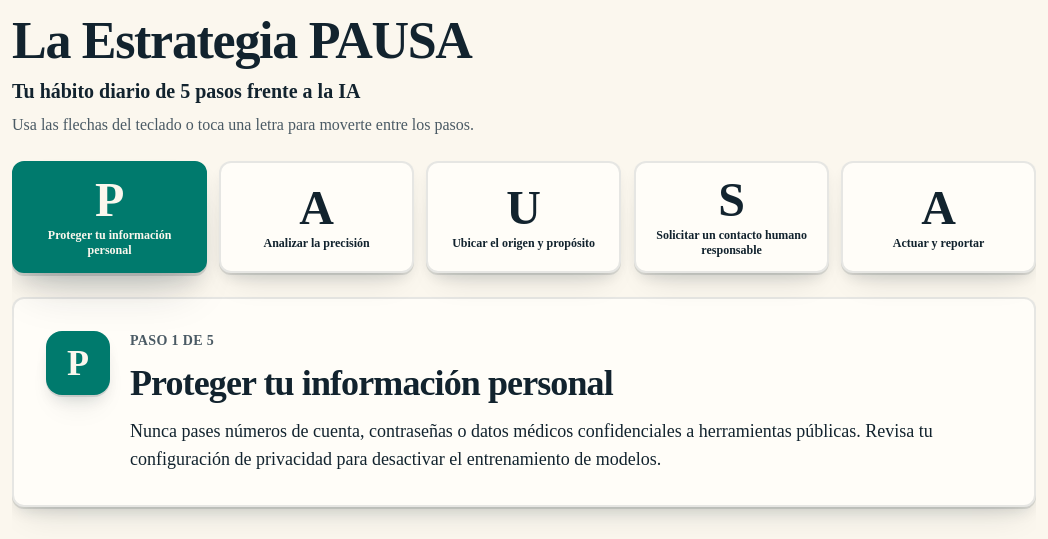
Test: PAUSE Strategy in es › shows every step's title and full text when chosen
Click the tab "P Proteger tu información personal" at (110, 217), box top-left (12, 161), bottom-right (207, 273)
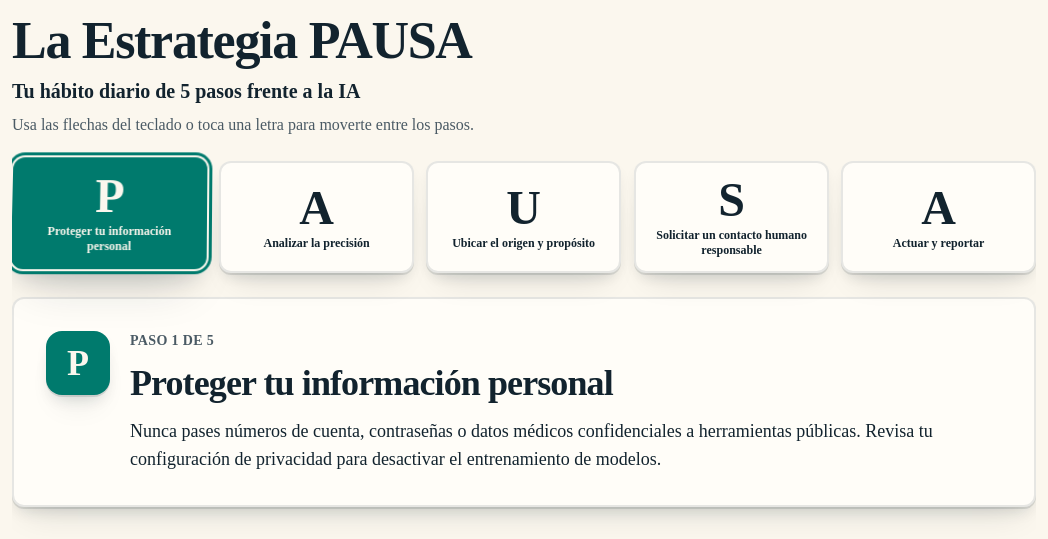
Expected: the heading "Proteger tu información personal" is shown, top-left (130, 363), bottom-right (613, 403)
Expected: the text "Nunca pases números de cuenta, contraseñas o datos médicos confidenciales a herramientas públicas. Revisa tu configuraci" is shown, top-left (130, 421), bottom-right (933, 469)
Click the tab "A Analizar la precisión" at (317, 217), box top-left (219, 161), bottom-right (414, 273)
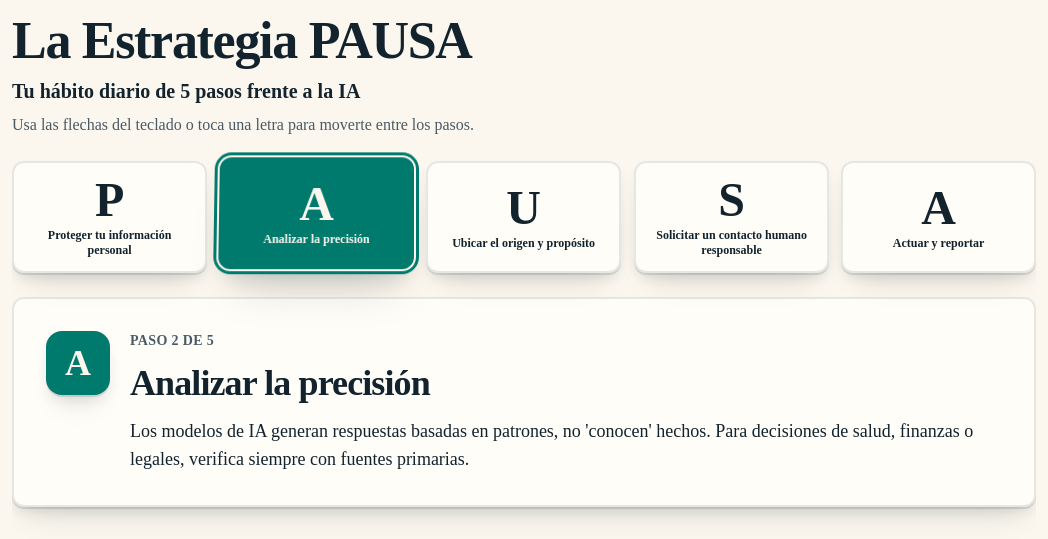
Expected: the heading "Analizar la precisión" is shown, top-left (130, 363), bottom-right (430, 403)
Expected: the text "Los modelos de IA generan respuestas basadas en patrones, no 'conocen' hechos. Para decisiones de salud, finanzas o lega" is shown, top-left (130, 421), bottom-right (973, 469)
Click the tab "U Ubicar el origen y propósito" at (524, 217), box top-left (426, 161), bottom-right (622, 273)
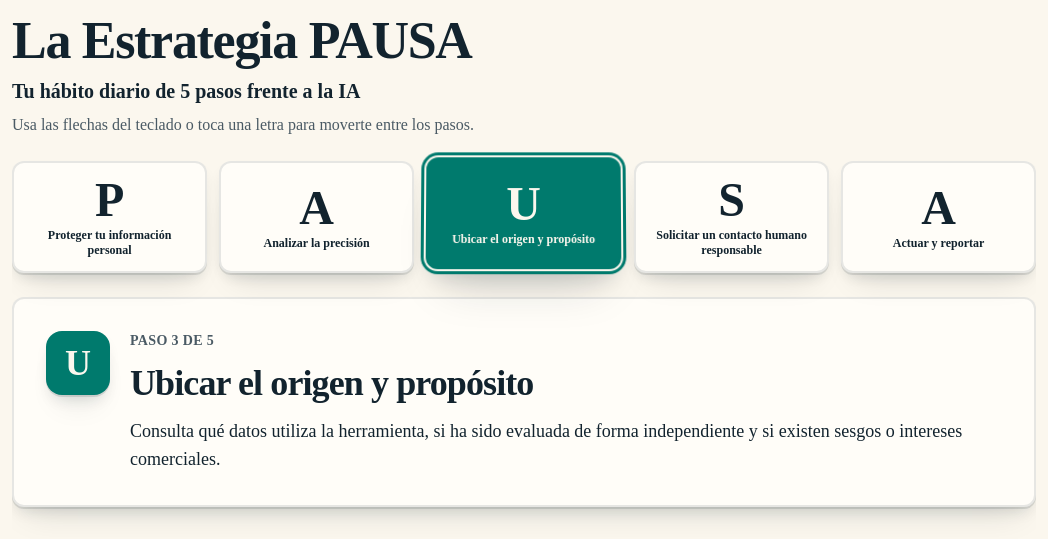
Expected: the heading "Ubicar el origen y propósito" is shown, top-left (130, 363), bottom-right (534, 403)
Expected: the text "Consulta qué datos utiliza la herramienta, si ha sido evaluada de forma independiente y si existen sesgos o intereses co" is shown, top-left (130, 421), bottom-right (962, 469)
Click the tab "S Solicitar un contacto humano responsable" at (731, 217), box top-left (634, 161), bottom-right (829, 273)
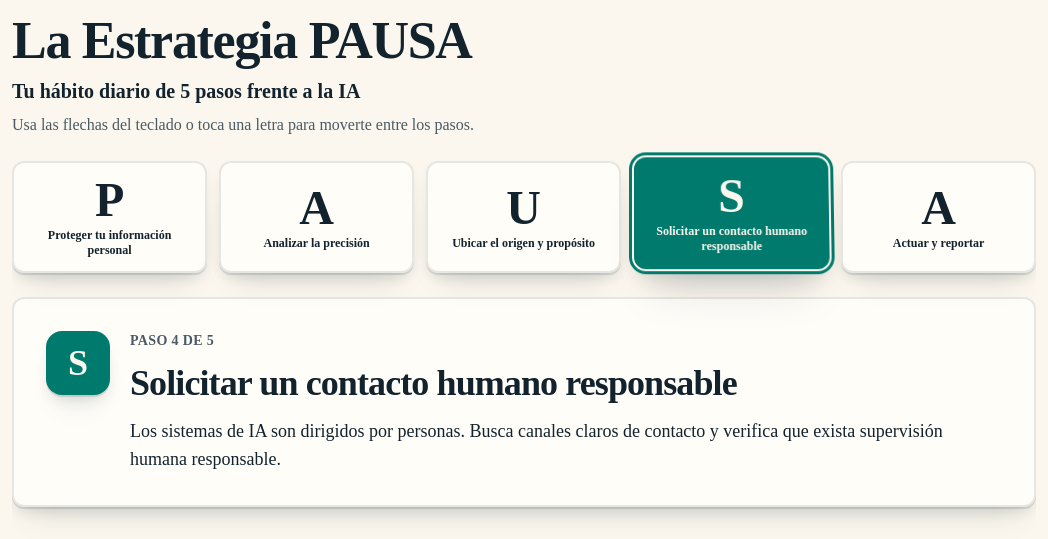
Expected: the heading "Solicitar un contacto humano responsable" is shown, top-left (130, 363), bottom-right (737, 403)
Expected: the text "Los sistemas de IA son dirigidos por personas. Busca canales claros de contacto y verifica que exista supervisión humana" is shown, top-left (130, 421), bottom-right (943, 469)
Click the tab "A Actuar y reportar" at (938, 217), box top-left (841, 161), bottom-right (1036, 273)
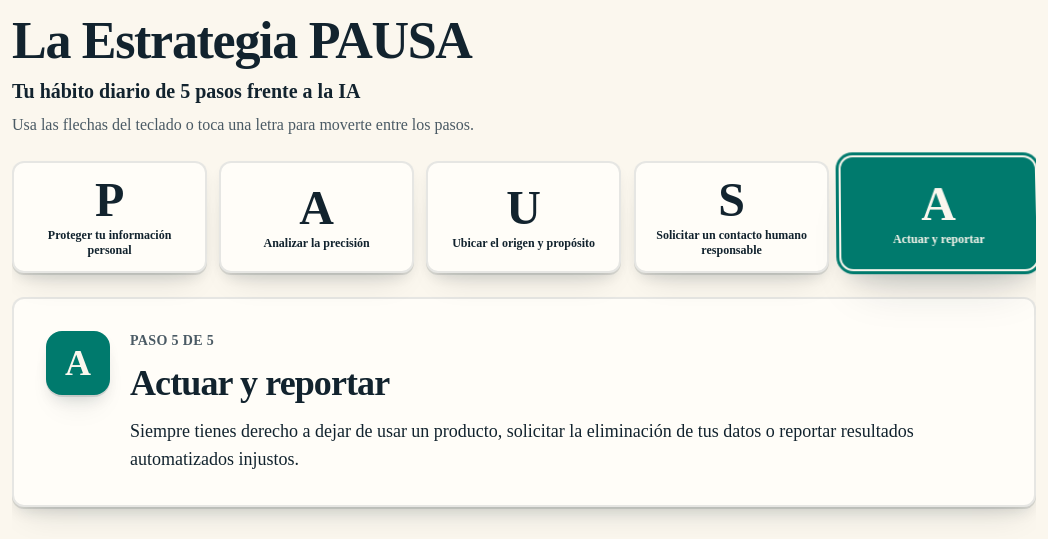
Expected: the heading "Actuar y reportar" is shown, top-left (130, 363), bottom-right (389, 403)
Expected: the text "Siempre tienes derecho a dejar de usar un producto, solicitar la eliminación de tus datos o reportar resultados automati" is shown, top-left (130, 421), bottom-right (914, 469)
